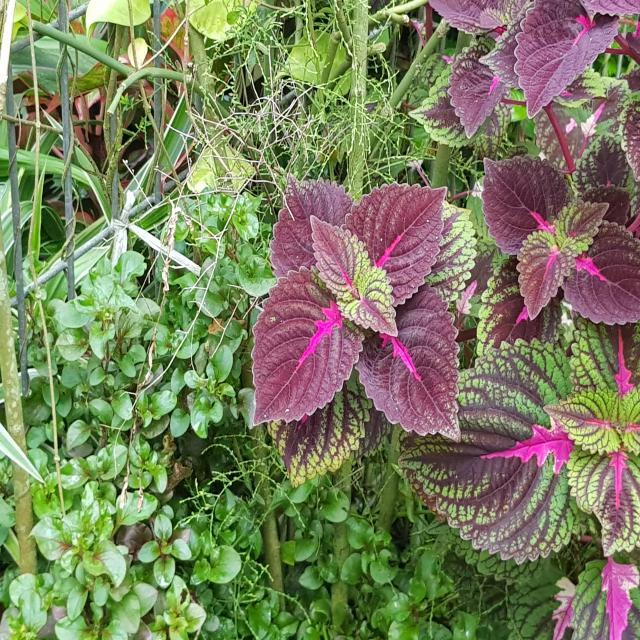Coleus: (393, 0, 640, 547), (232, 151, 487, 486)
